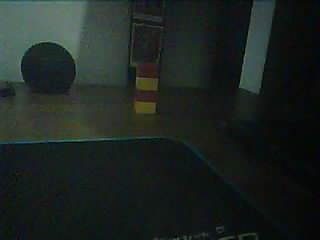lego: (135, 62, 159, 115)
